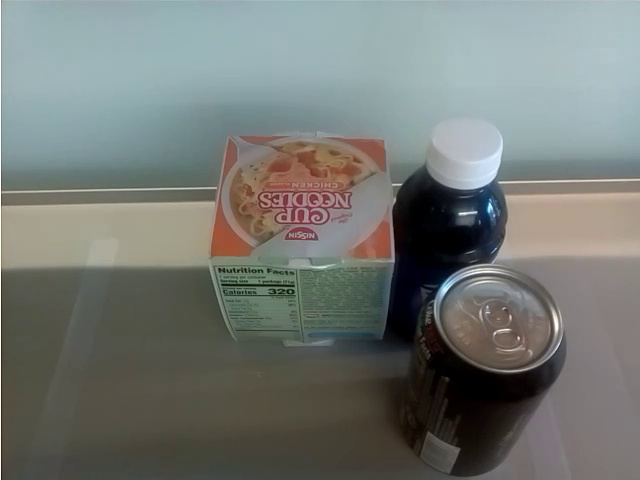cocacola-zero: (400, 271, 563, 479)
juice-shadow: (393, 111, 504, 266)
noodles: (209, 130, 393, 344)
